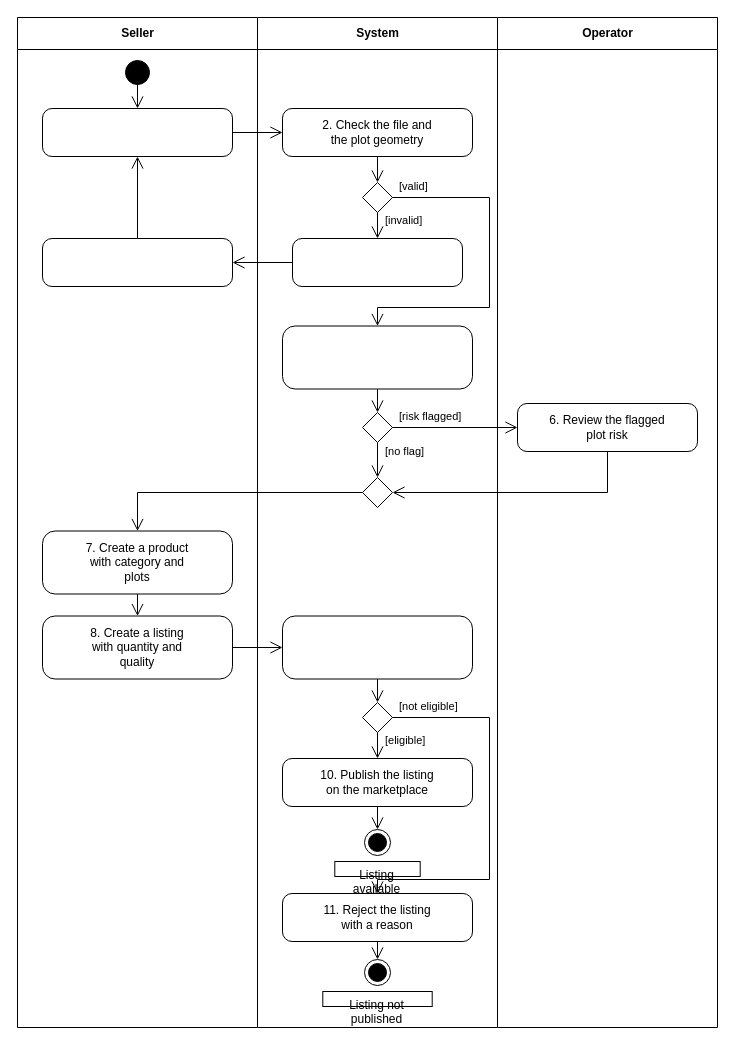
The diagram is 735 pixels wide and 1045 high, and some of its shapes have lost their labels. Here are the shapes that lost their labels. From the top down, the centre of each, then its label:
At (x=137, y=132): "1. Import plots from KML or a GPS pin".
At (x=137, y=262): "4. Fix the plots and import them again".
At (x=377, y=262): "3. Show the errors per plot".
At (x=377, y=357): "5. Save the plots and run the forest-risk check".
At (x=377, y=647): "9. Check seller eligibility and the plot checks".
